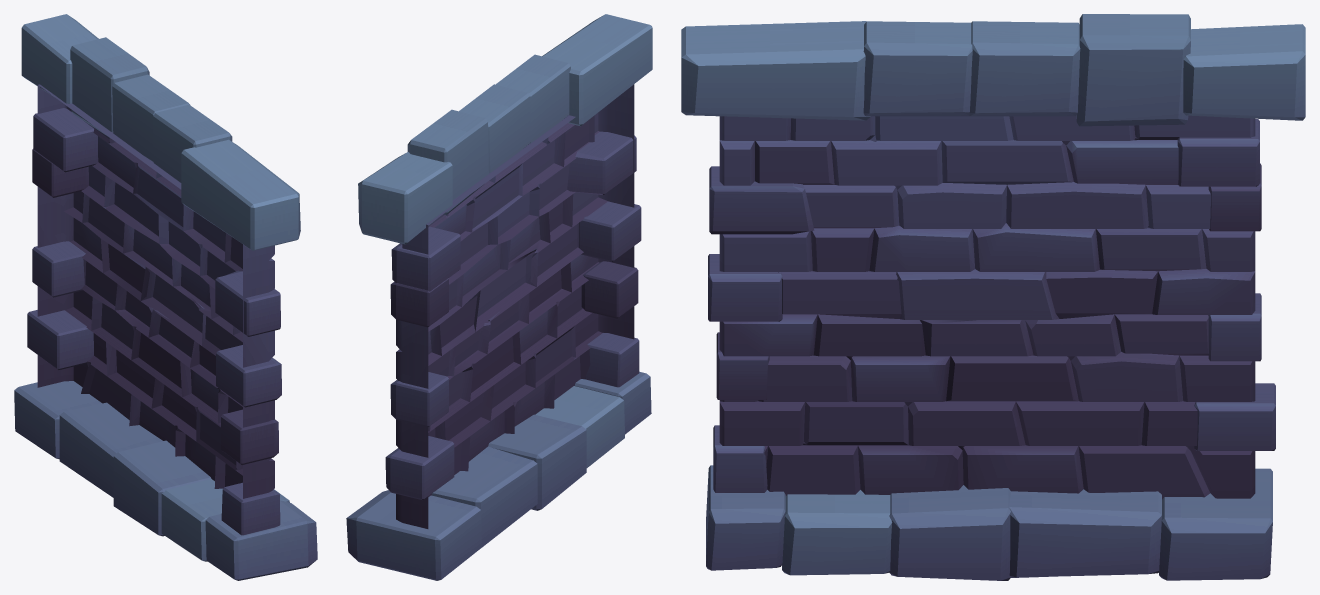
File: WallChunk3.fbx
3 renders of one model, left to right at view 1: azimuth 30°, elevation 25°; view 2: azimuth 150°, elevation 25°; view 3: azimuth 270°, elevation 25°, orthographic. The views are drawn at different scales.
Visible parts, largest first — view 1: pCube417; view 2: pCube417; view 3: pCube417.
Part boxes in pixels (box(x1,y1,x2,y2)): pCube417: box(14, 14, 317, 580); pCube417: box(346, 14, 652, 580); pCube417: box(681, 14, 1305, 580).
Size of the model in its own units: 1.51 by 6.01 by 6.4.
